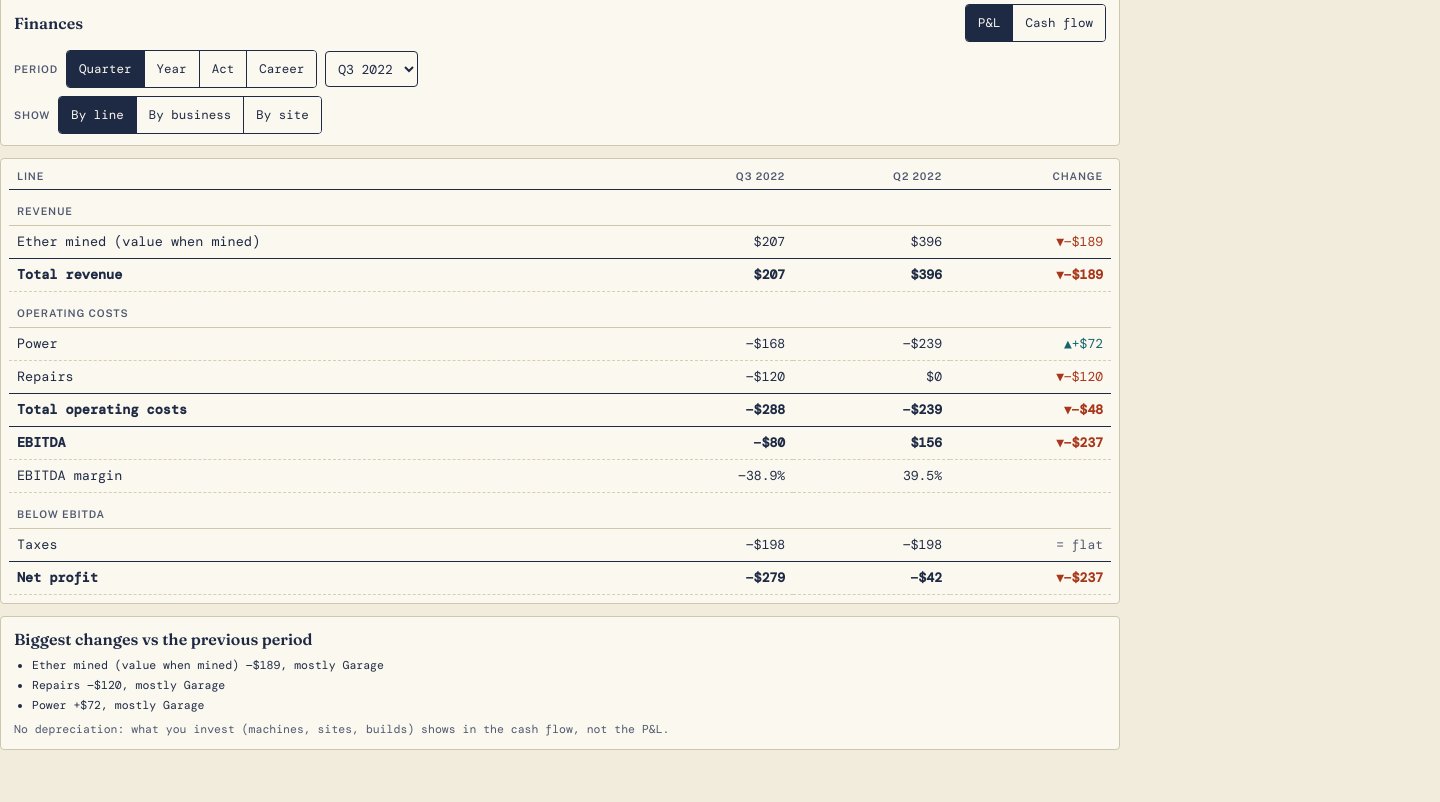
Test: the Finances section › the cash flow ends on the game’s cash, with the weekly chart
Click the button "Career": x=281, y=69 [246,51,316,87]
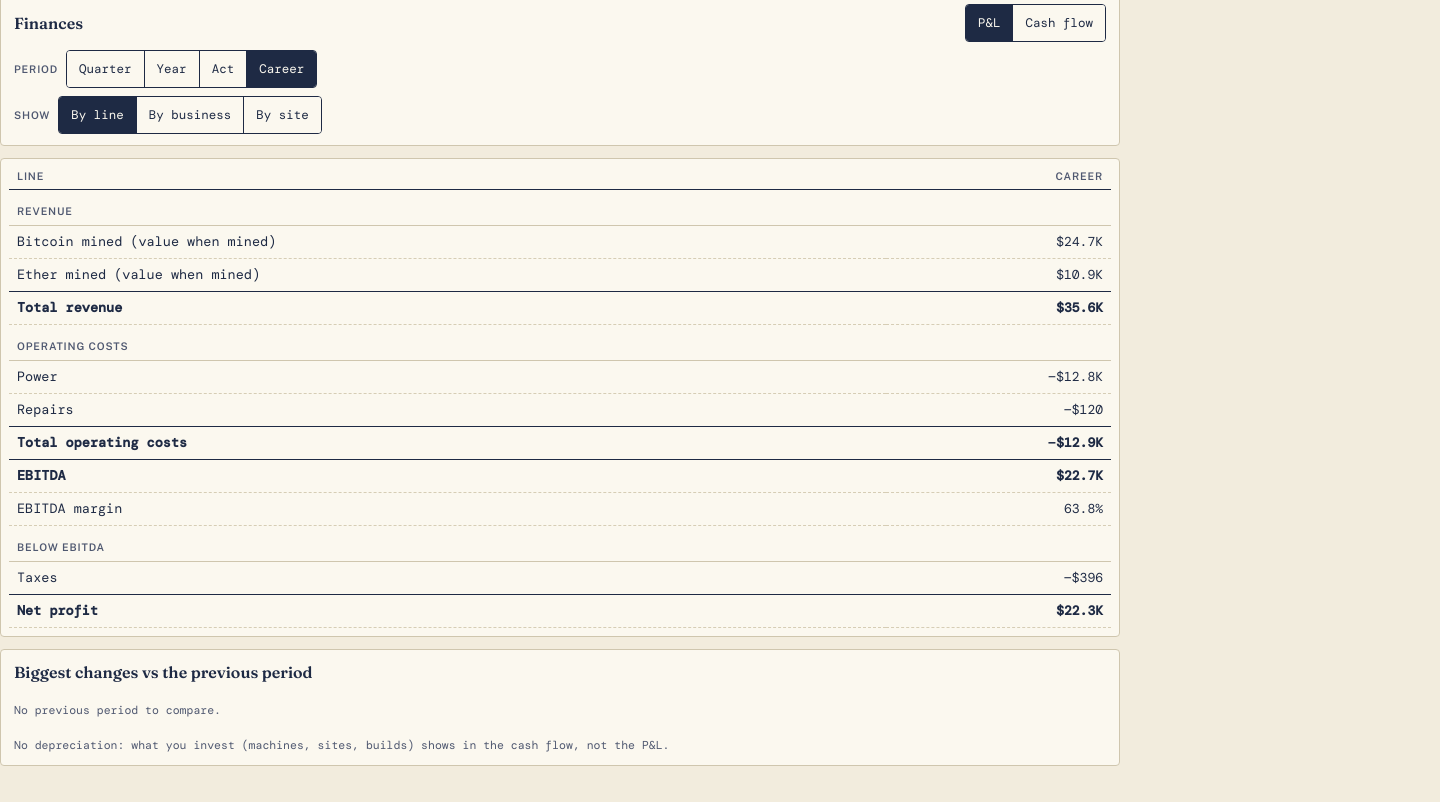
Click the tab "Cash flow": x=1059, y=23 [1012,5,1105,41]
(page scrolled)
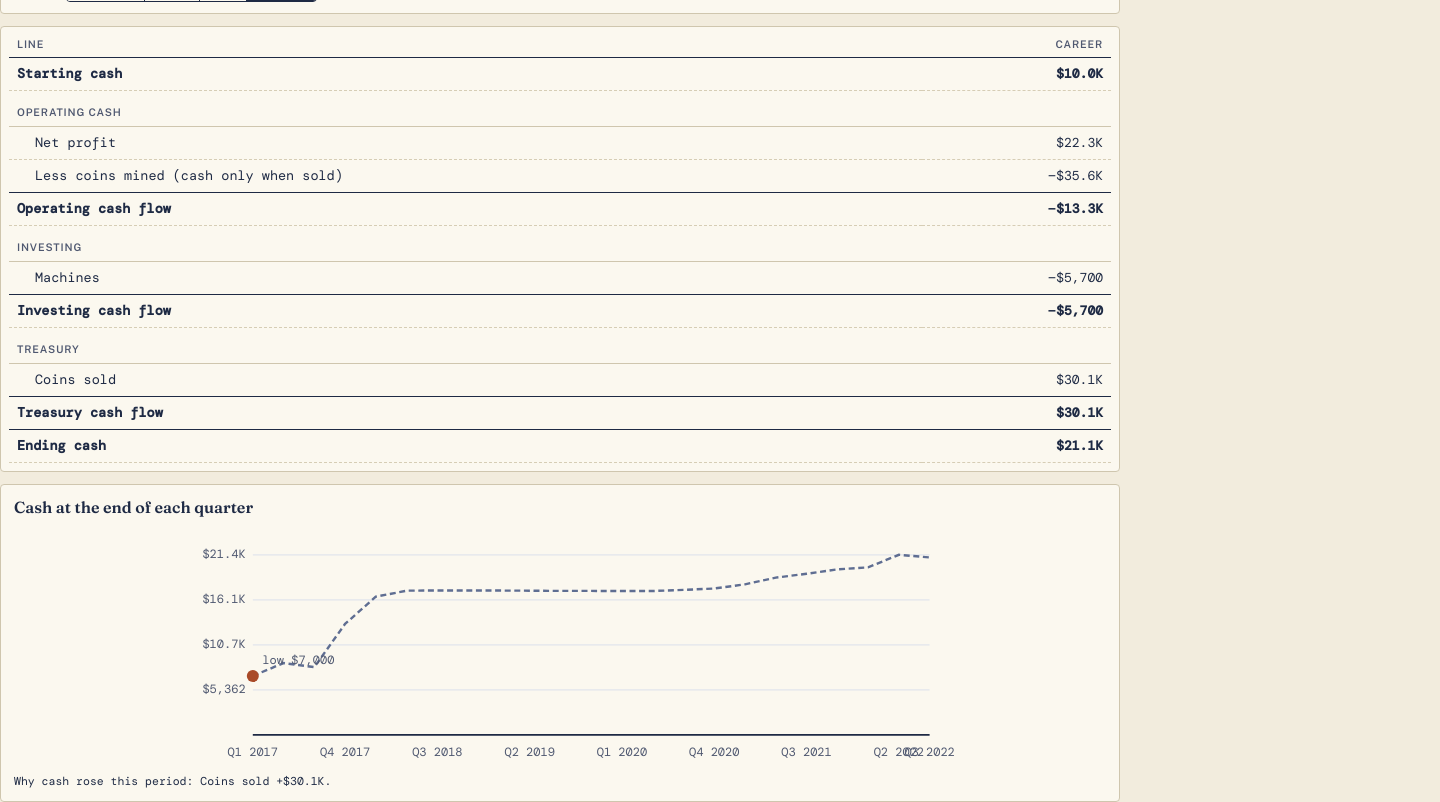
Expected: the picture named "Cash over the period; its lowest point $7,000" is shown, [14,526,1106,766]
Expected: the text "Why cash rose this period: Coins sold +$30.1K." is shown, [14,774,331,789]
